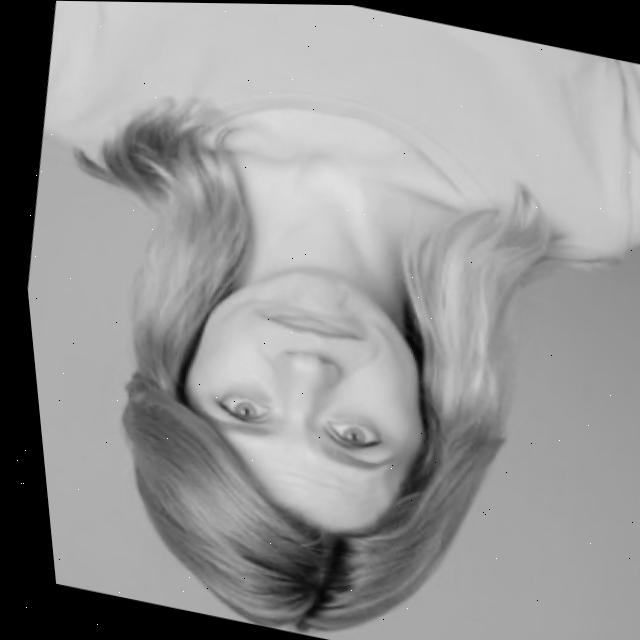sad: (162, 283, 440, 509)
